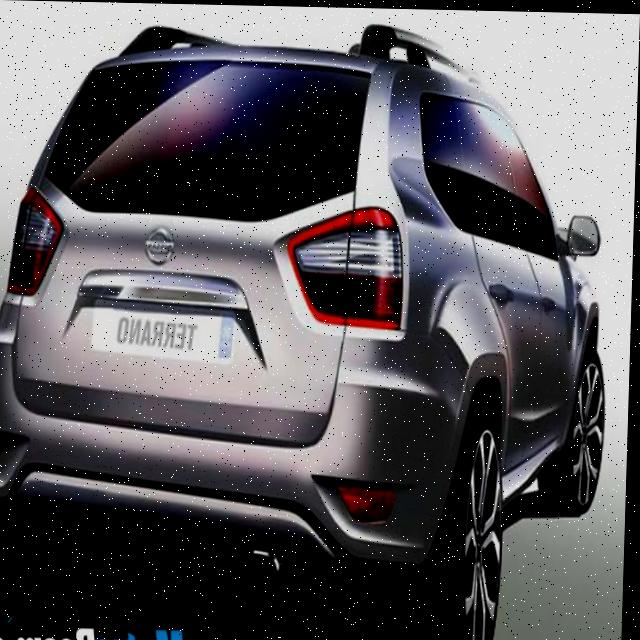plate: (95, 304, 238, 367)
